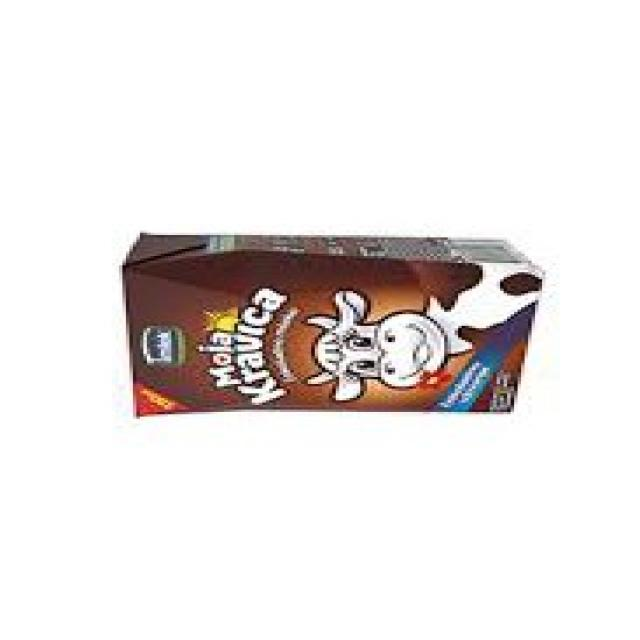non_white_jug: (114, 229, 546, 420)
